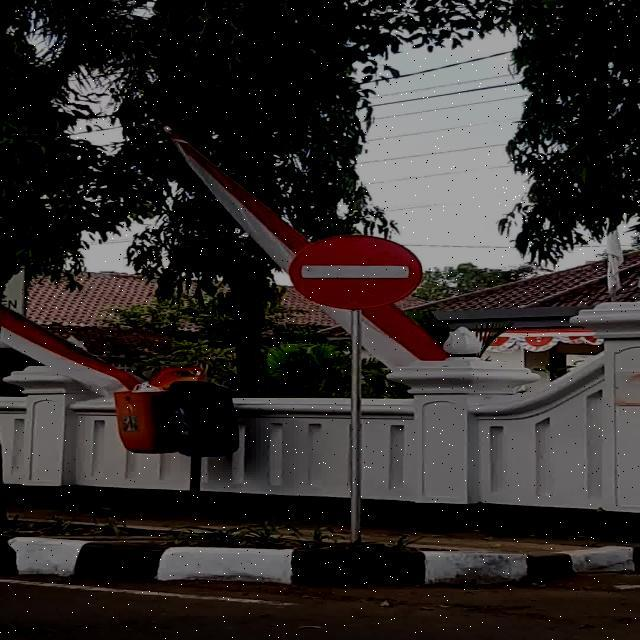Dilarang Masuk: (290, 238, 424, 312)
